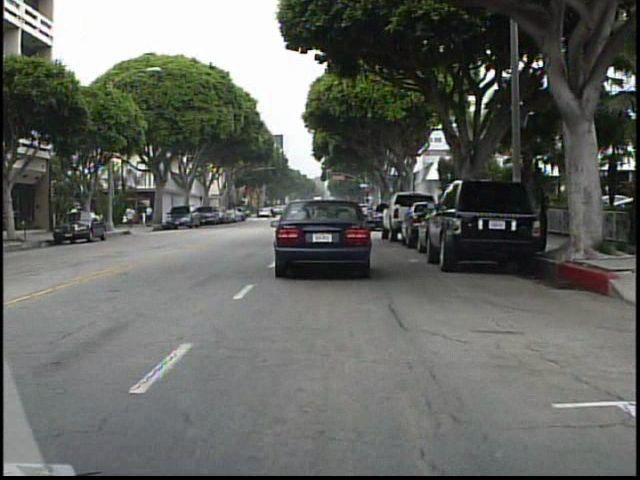person: (125, 201, 140, 232), (144, 201, 157, 229), (268, 202, 277, 222)
